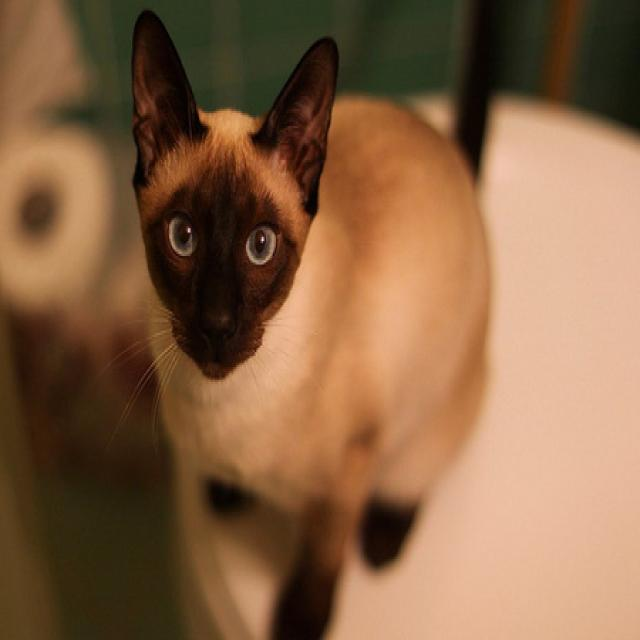Siamese: (125, 0, 494, 640)
